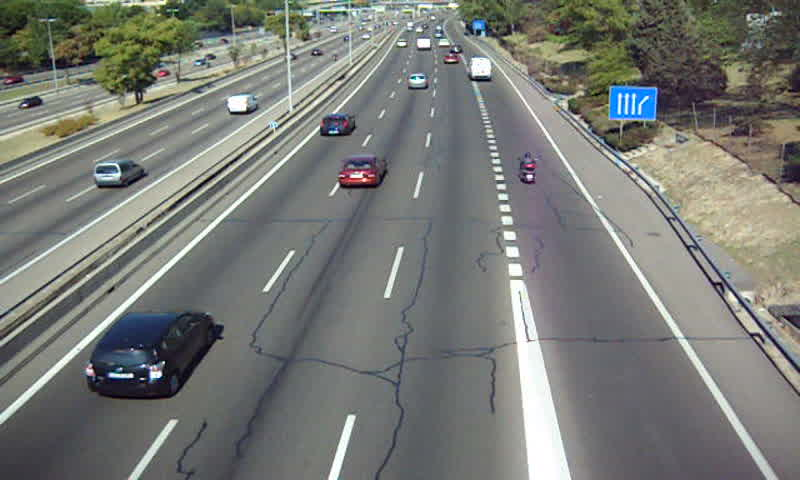car: (84, 308, 213, 398), (337, 156, 386, 187), (317, 114, 355, 137), (405, 73, 426, 89), (440, 53, 460, 66), (394, 38, 407, 46)
motorcycle: (517, 152, 540, 186)
van: (466, 56, 494, 80), (416, 38, 430, 50)
